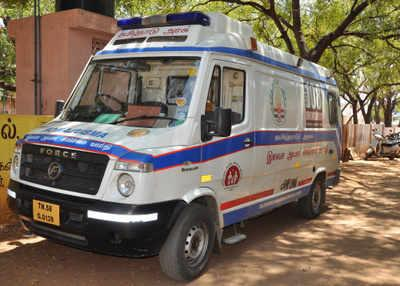ER: (8, 11, 344, 282)
